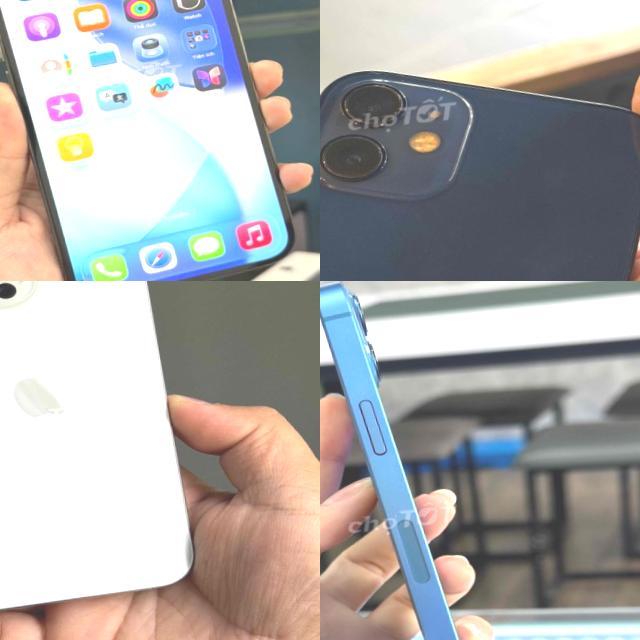gen_12_13: (0, 0, 303, 281), (320, 31, 640, 281), (320, 281, 490, 640)
gen_15: (0, 281, 217, 635)
